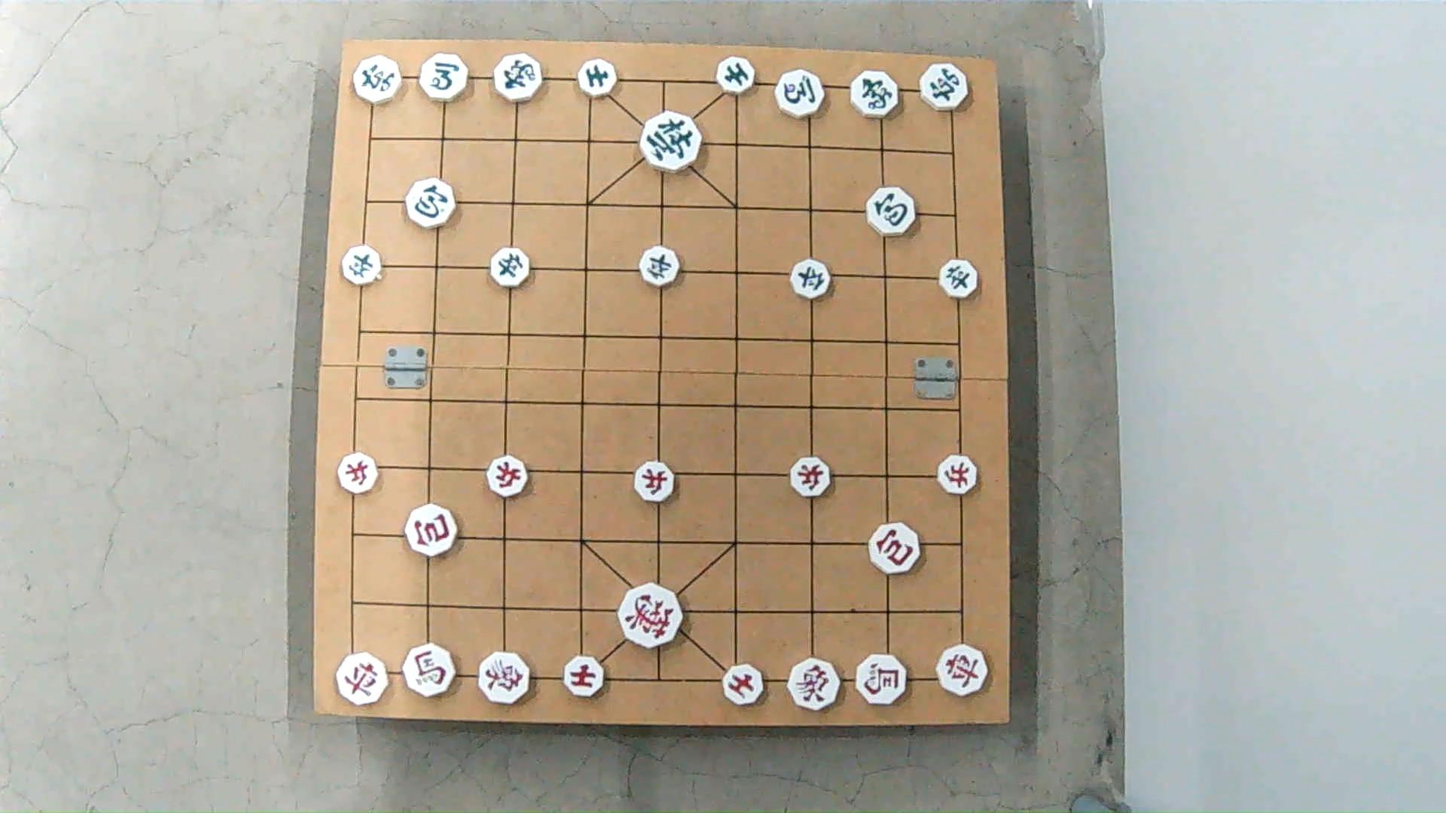cha_green: (353, 53, 406, 103), (923, 64, 972, 110)
cha_red: (936, 645, 990, 697), (336, 656, 389, 704)
jol_green: (488, 249, 529, 288), (639, 248, 680, 286), (939, 261, 980, 299), (789, 261, 830, 298), (339, 248, 379, 285)
jol_red: (633, 459, 677, 501), (335, 454, 377, 493), (484, 456, 526, 495), (936, 455, 978, 494), (789, 458, 833, 495)
ma_green: (776, 70, 827, 117), (421, 56, 471, 102)
ma_red: (401, 647, 456, 698), (854, 656, 905, 705)
po_green: (404, 181, 454, 229), (866, 188, 917, 235)
po_red: (868, 524, 922, 573), (404, 507, 457, 556)
sa_green: (580, 61, 621, 97), (715, 58, 754, 91)
sa_red: (720, 665, 765, 705), (564, 656, 608, 696)
sang_green: (493, 53, 542, 103), (850, 69, 898, 120)
sang_red: (789, 657, 841, 711), (479, 653, 529, 707)
wang_green: (639, 114, 702, 169)
wang_red: (618, 588, 682, 648)
